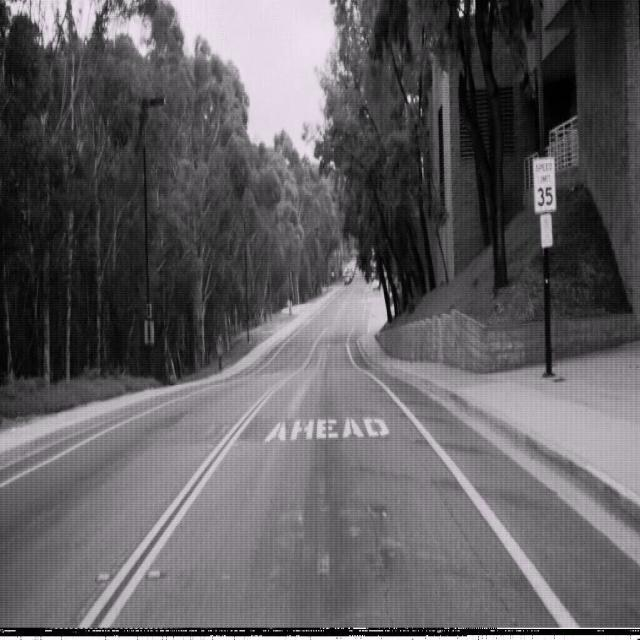speedLimit35: (532, 154, 557, 213)
